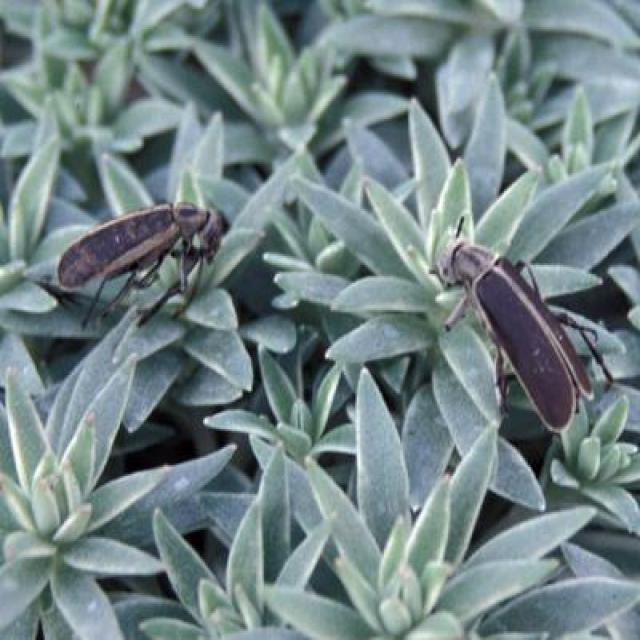BlisterBeetle-Adult-: (423, 210, 619, 438)
